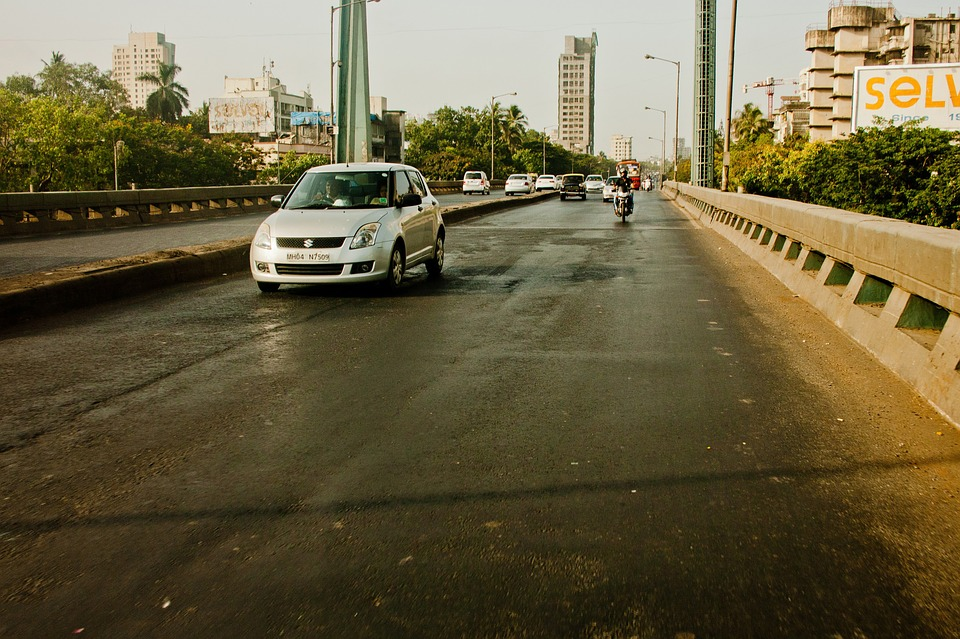bike: (616, 173, 630, 221), (644, 175, 651, 192)
bus: (617, 161, 641, 190)
car: (251, 165, 443, 300), (604, 175, 630, 201), (463, 171, 490, 196), (505, 174, 534, 195), (561, 174, 585, 199), (536, 174, 557, 190), (586, 175, 603, 192)
